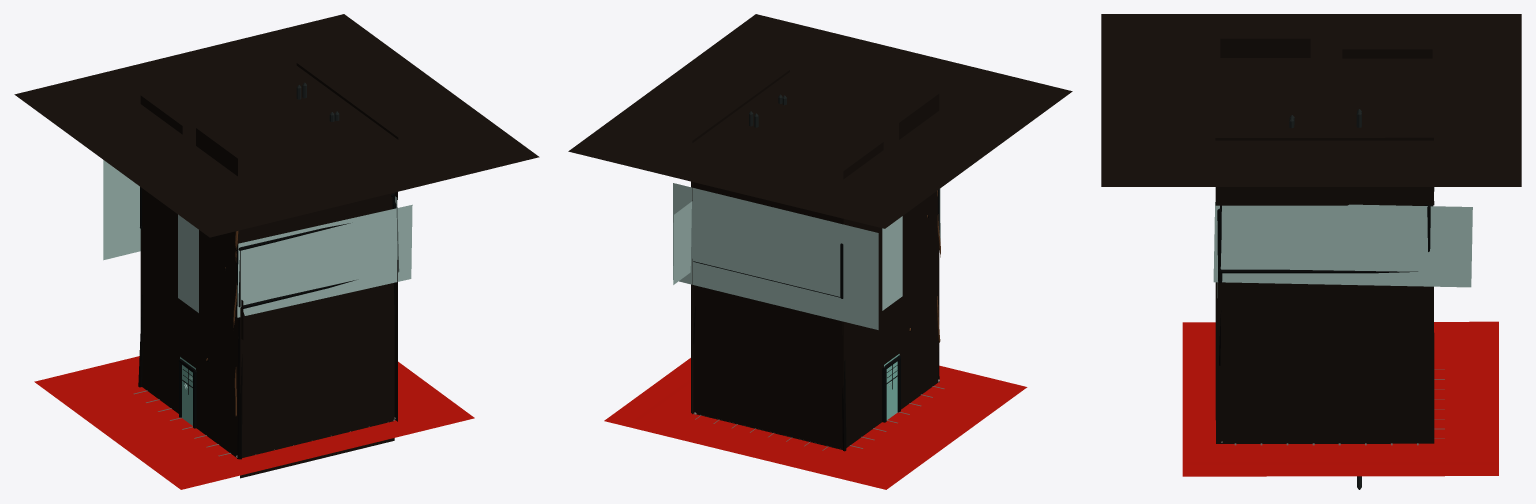
Rendered from Liftenf-einstieg.fbx.
The picture shows the model from 3 angles, left to right: view 1: azimuth 30°, elevation 25°; view 2: azimuth 150°, elevation 25°; view 3: azimuth 270°, elevation 25°; orthographic projection. The views are drawn at different scales.
Parts seen in each view (by area): view 1: Paint; view 2: Paint; view 3: Paint.
Boxes of the visible parts, x1,y1,x2,y2 form: Paint: (14,14,539,489); Paint: (568,14,1072,489); Paint: (1101,14,1521,489).
Size of the model in its own units: 6.52 by 6.77 by 6.7.
